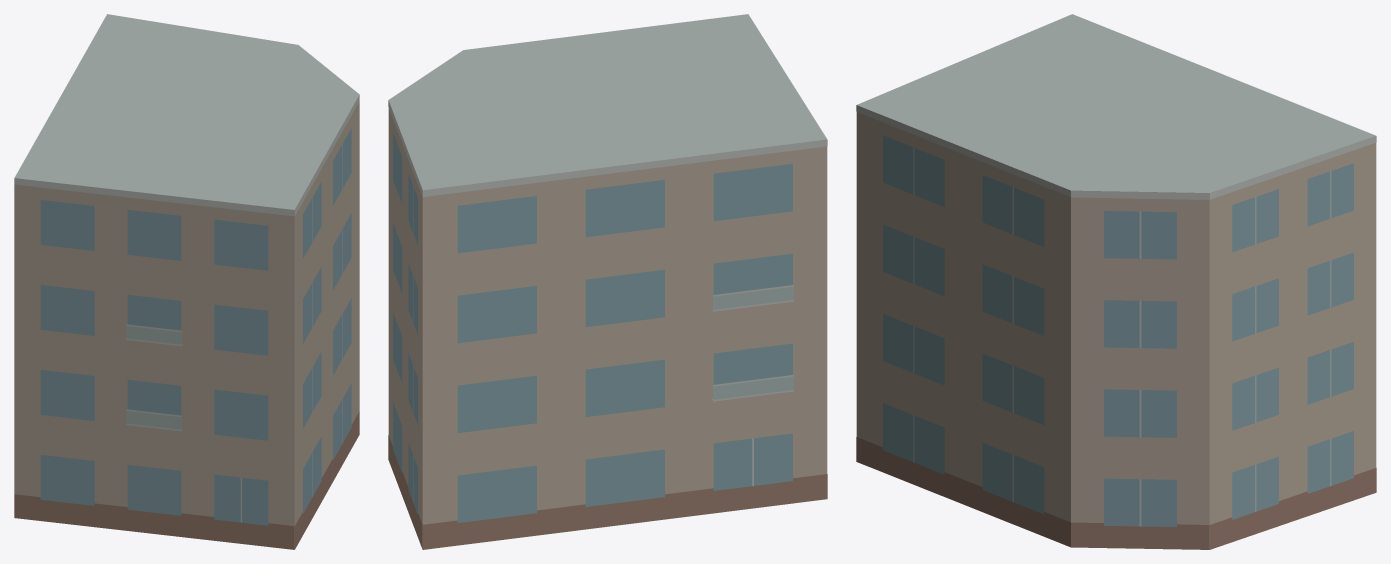
Rendered from survey-upis-32590194.glb.
The picture shows the model from 3 angles, left to right: view 1: azimuth 30°, elevation 25°; view 2: azimuth 150°, elevation 25°; view 3: azimuth 270°, elevation 25°; orthographic projection. The views are drawn at different scales.
Visible parts, largest first — view 1: survey-upis-32590194.tmp; view 2: survey-upis-32590194.tmp; view 3: survey-upis-32590194.tmp.
Part boxes in pixels (left/top/right/bottom): survey-upis-32590194.tmp: left=14, top=14, right=359, bottom=549; survey-upis-32590194.tmp: left=388, top=14, right=827, bottom=549; survey-upis-32590194.tmp: left=856, top=14, right=1376, bottom=549.
Bounding box in the file's own units: 13.77 × 12.79 × 16.9.
